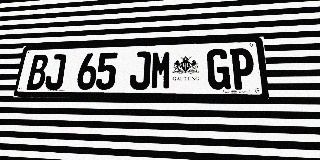5: (95, 52, 118, 90)
6: (76, 53, 99, 90)
B: (26, 54, 49, 90)
G: (207, 49, 231, 90)
J: (129, 51, 151, 90), (44, 54, 67, 90)
M: (150, 51, 172, 90)
P: (230, 48, 255, 90)
